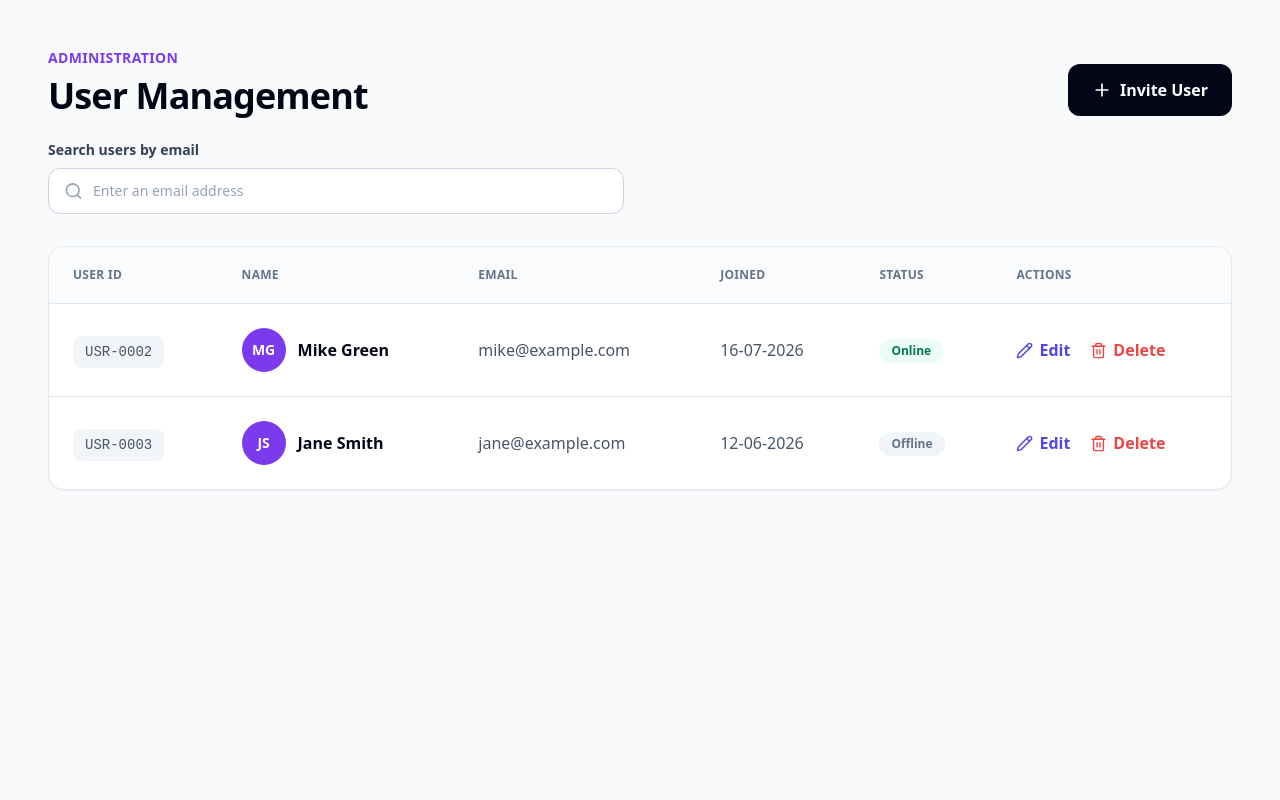
Scenario: toggles invite password visibility and dismisses the success message
expect the text "mike@example.com" is shown: met, box [454,304,696,396]
Click the button "Invite User".
click(1150, 90)  # box [1068,64,1232,116]
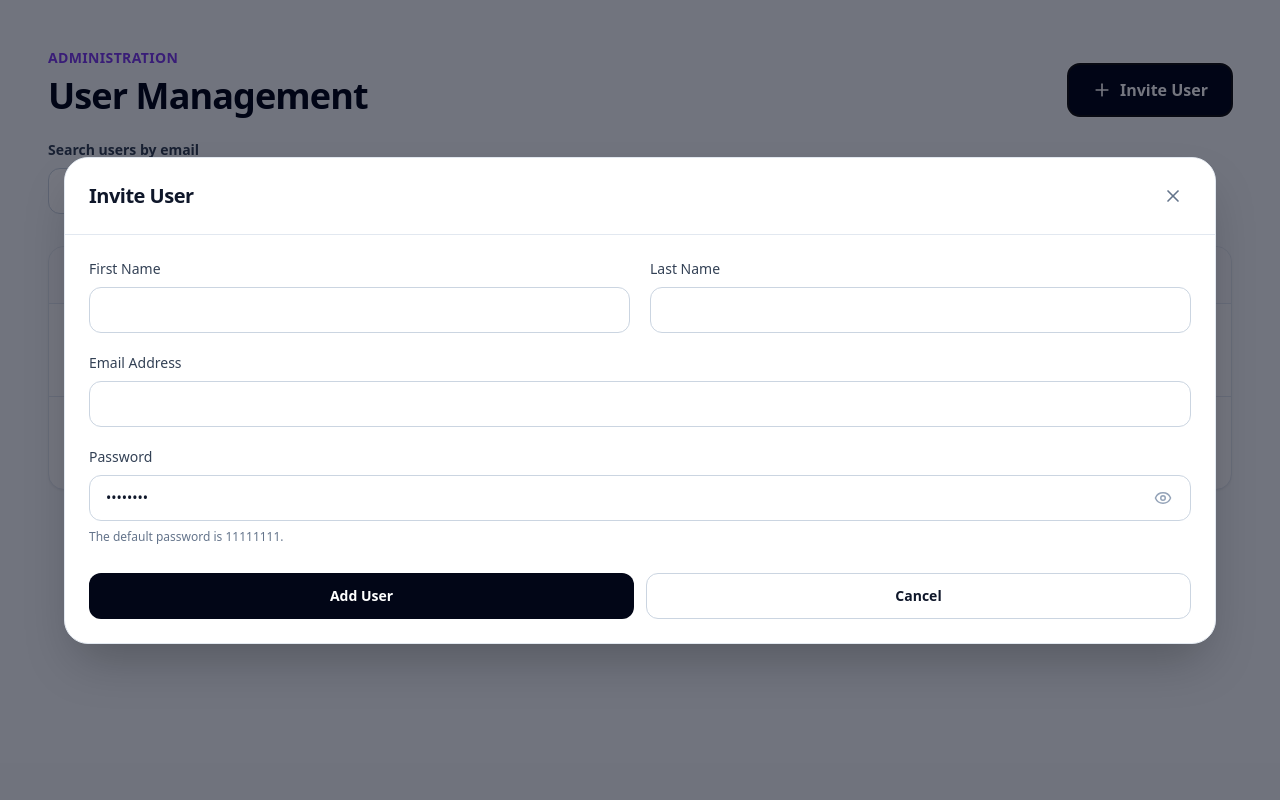
Click the button named "show password".
click(1163, 498)  # box [1147,482,1179,514]
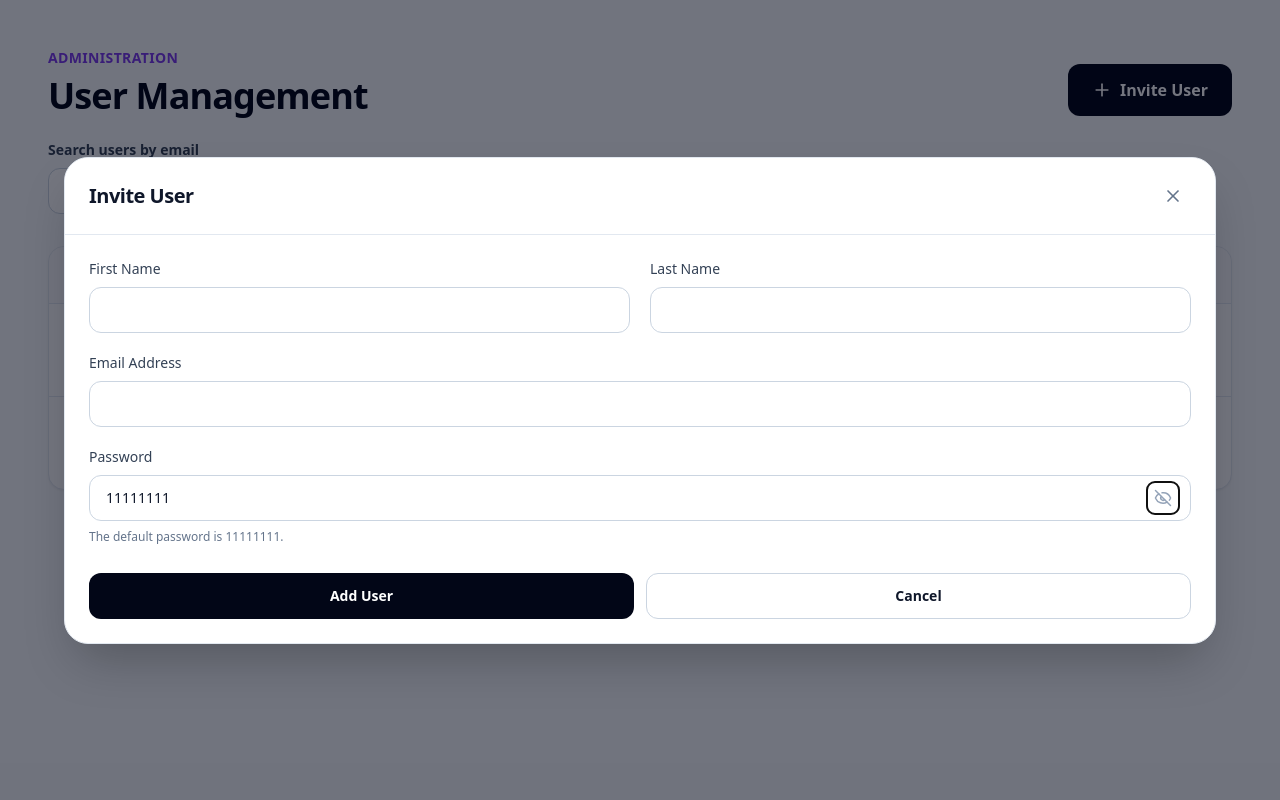
expect the field labelled "Password" shows its text: met, box [89,474,1191,520]
Click the button named "hide password".
click(1163, 498)  # box [1147,482,1179,514]
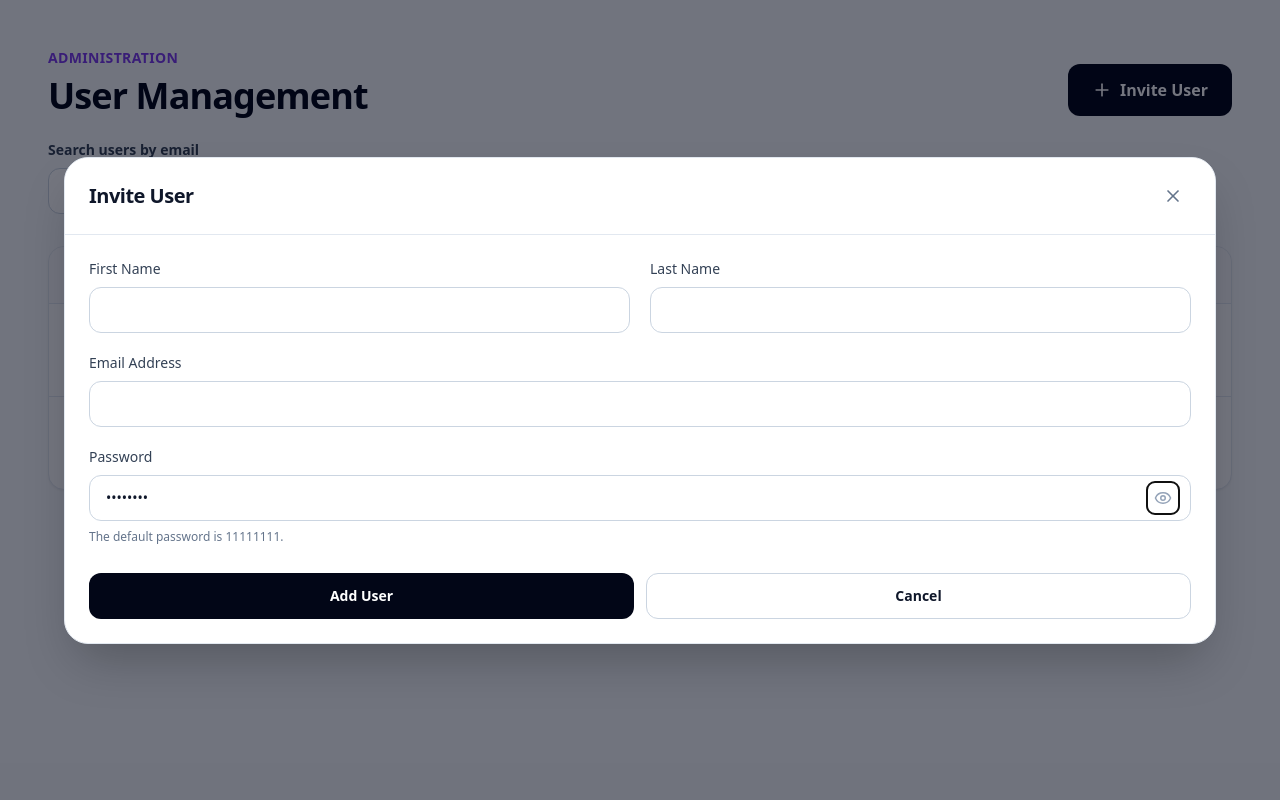
expect the password field labelled "Password" hides its text: met, box [89,474,1191,520]
Type "test@example.com" into the field labelled "Email Address".
click(640, 404); type("test@example.com")  # box [89,380,1191,426]
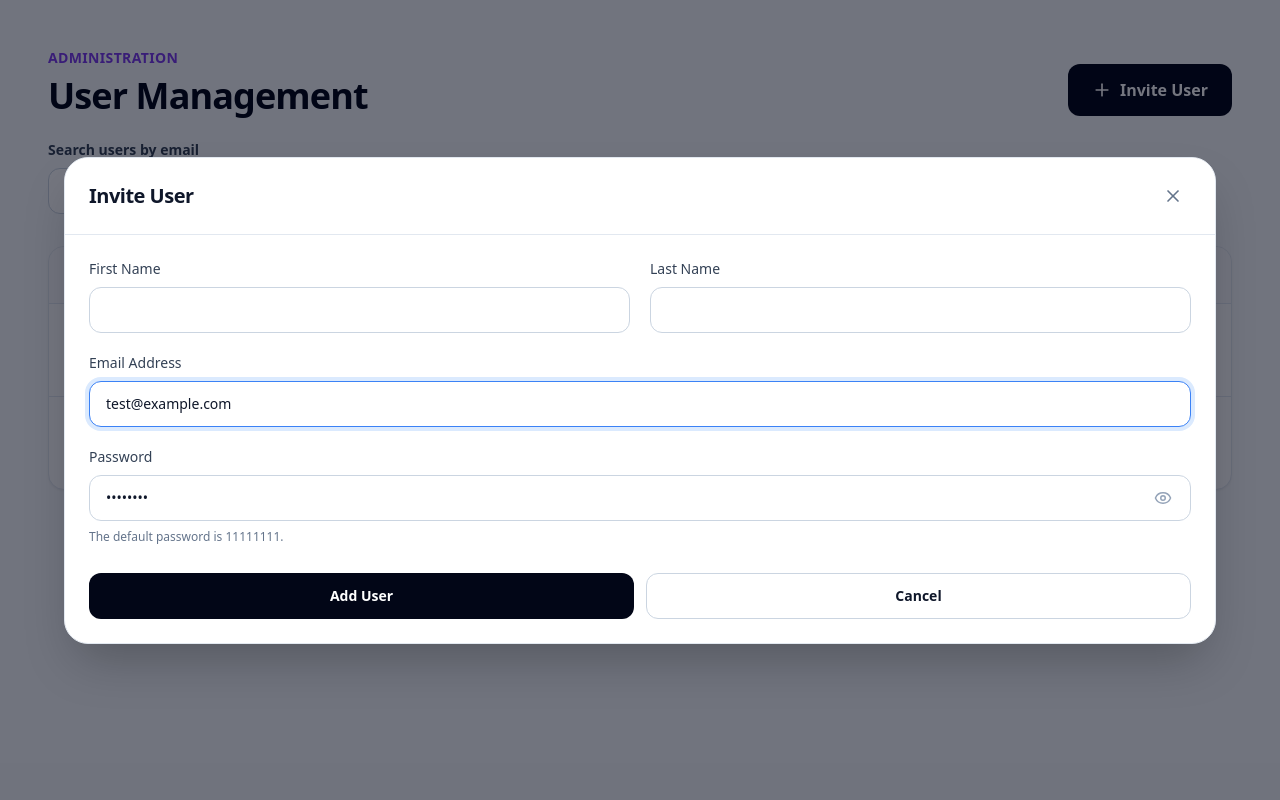
Click the button "Add User".
click(362, 596)  # box [89,572,634,618]
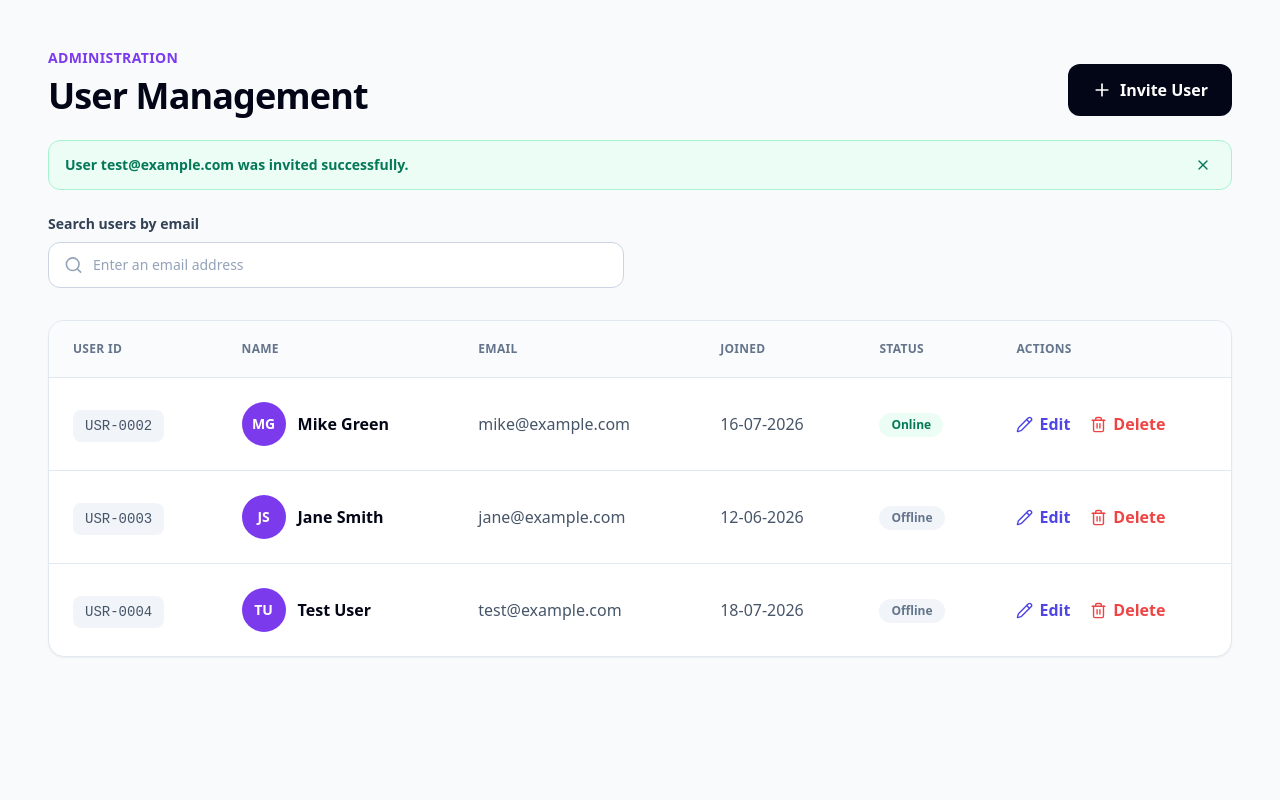
expect the message reads "User test@example.com was invited successfully.": met, box [65,155,409,174]
Click the button named "dismiss success message".
click(1203, 165)  # box [1191,153,1215,177]
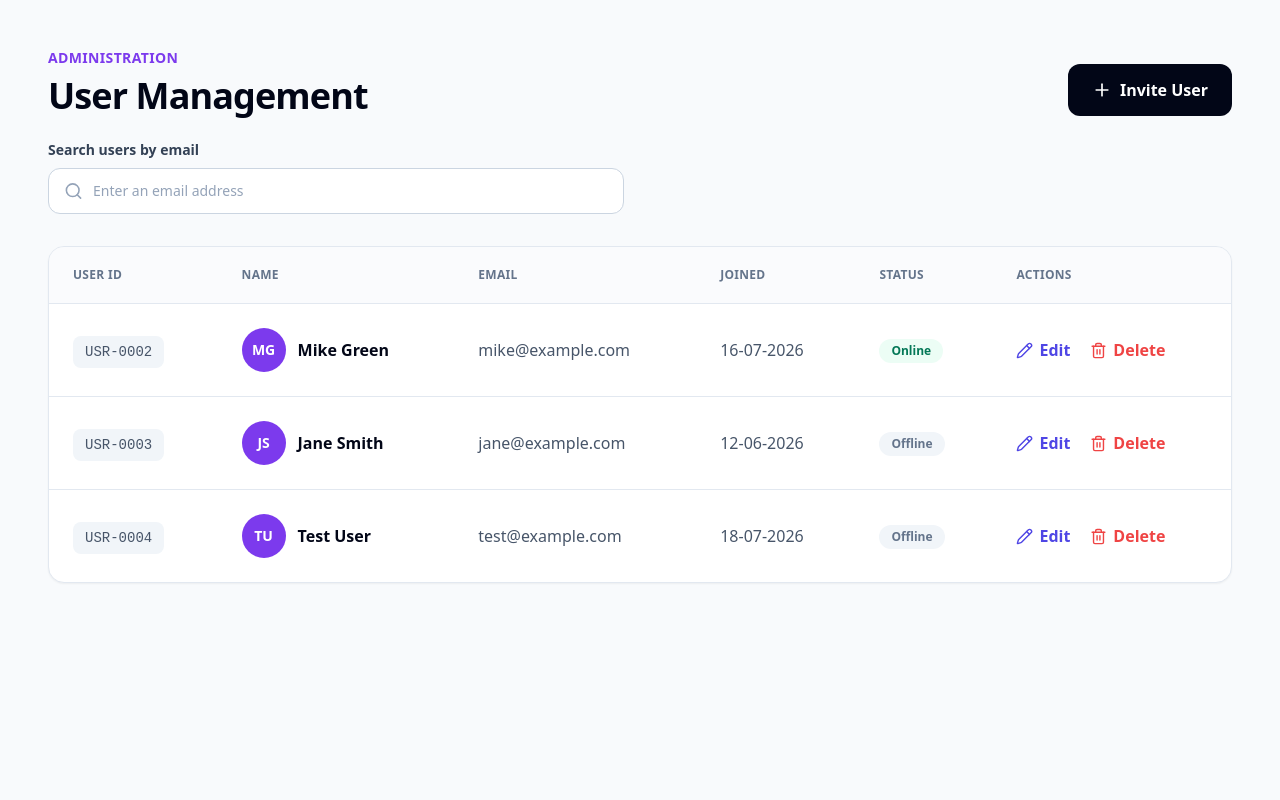
expect the message "User test@example.com was invited successfully." is gone: met
